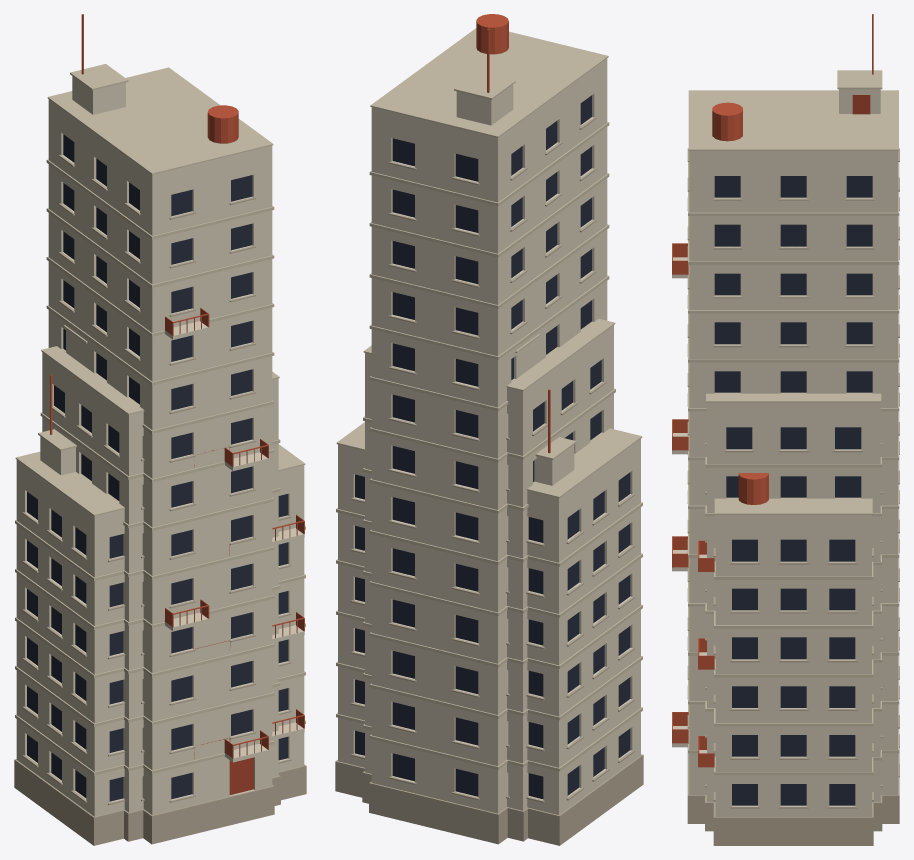
The model's file is towers.glb.
3 renders of one model, left to right at view 1: azimuth 30°, elevation 25°; view 2: azimuth 150°, elevation 25°; view 3: azimuth 270°, elevation 25°, orthographic. The views are drawn at different scales.
Visible parts, largest first — view 1: TowerB_LOD0, TowerC_LOD0, TowerA_LOD0; view 2: TowerB_LOD0, TowerC_LOD0, TowerA_LOD0; view 3: TowerB_LOD0, TowerC_LOD0, TowerA_LOD0.
Boxes of the visible parts, x1,y1,x2,y2 form: TowerB_LOD0: (46,14,274,844); TowerC_LOD0: (14,374,306,845); TowerA_LOD0: (40,325,280,841); TowerB_LOD0: (369,14,609,844); TowerC_LOD0: (335,389,643,845); TowerA_LOD0: (362,319,615,841); TowerB_LOD0: (672,14,899,823); TowerC_LOD0: (698,473,873,845); TowerA_LOD0: (705,392,882,831).
Size of what is drawn, in the model's own units: 14.22 by 48.3 by 13.11.
